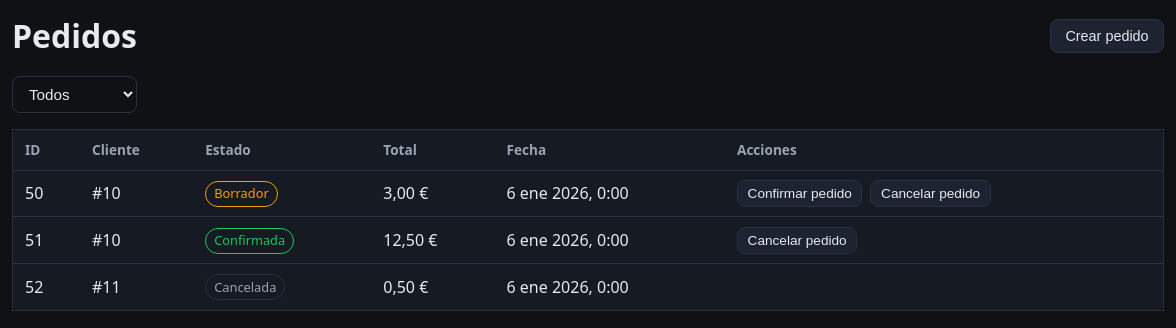
Test case: R-UI-ORD-1: orders list › R-UI-ORD-1: status=confirmed filter → only confirmed rows
Check: the table is shown, box [12,129,1164,311]
Select "Confirmada" in the dropdown named "Estado" at (74, 94), box [12,76,137,113]
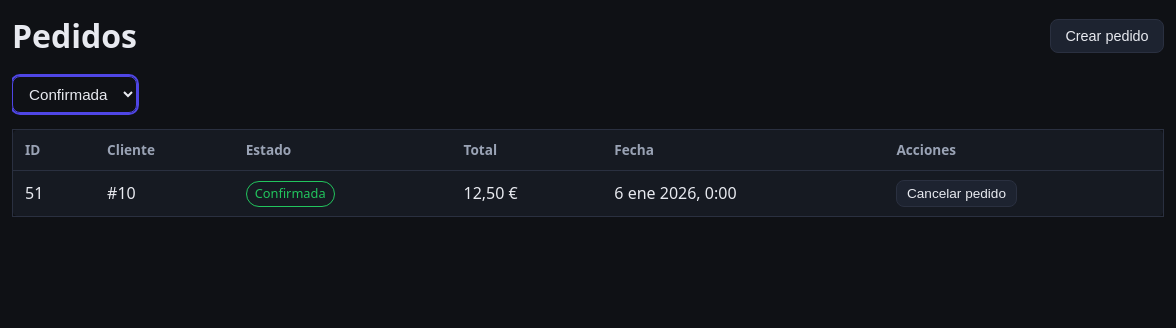
Check: the text "Borrador" is gone
Check: the text "Confirmada" is shown once, box [246,181,335,207]
Check: the text "Cancelada" is gone
